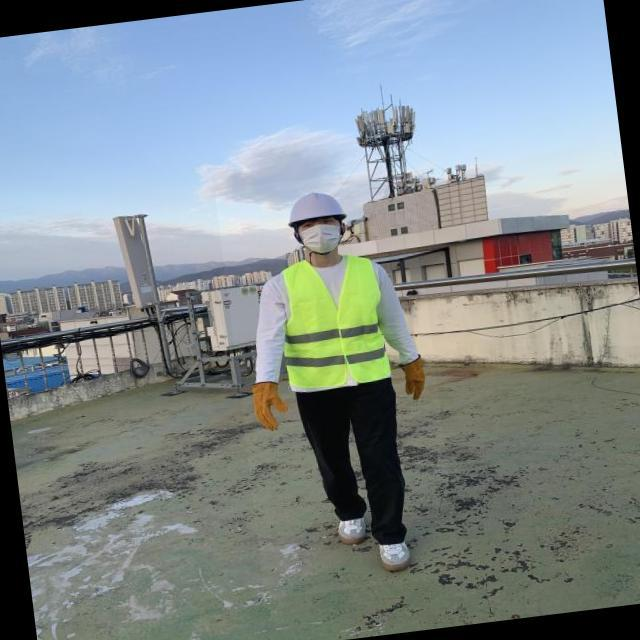Gloves: (250, 378, 290, 434), (399, 354, 429, 403)
Helmet: (282, 188, 347, 228)
Person: (241, 179, 437, 587)
Safety Boot: (376, 541, 413, 574), (335, 518, 368, 547)
Safety Vest: (273, 251, 392, 391)
